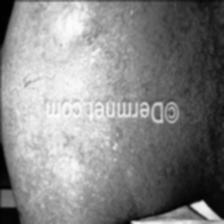Non-Cancerous Skin Condition: (22, 0, 224, 96), (18, 128, 224, 194)
